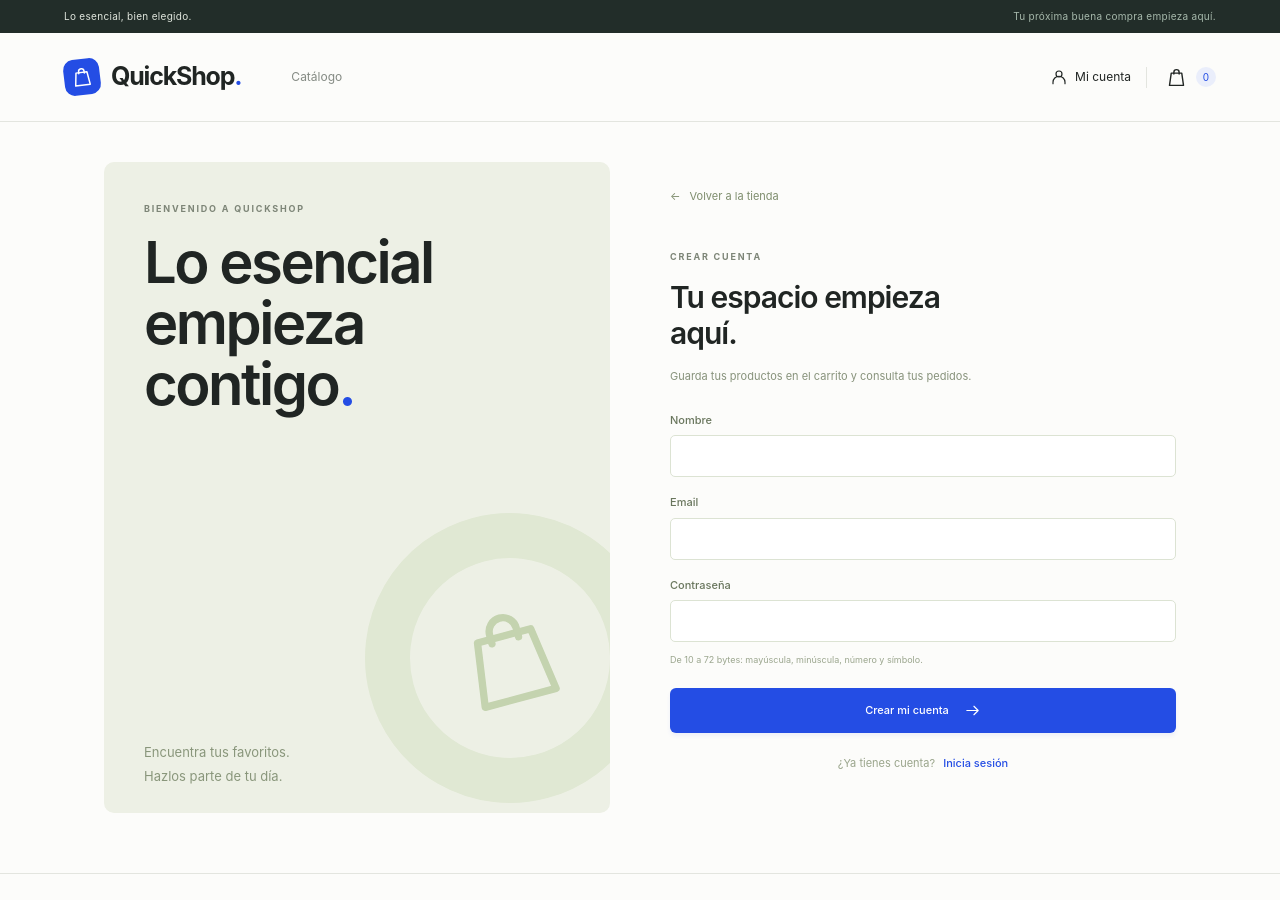
Test case: QuickShop › explica el campo rechazado al registrarse y conserva los datos
Type "Cliente Prueba" into the field labelled "Nombre" at coordinates (923, 456), box [670,435,1176,477]
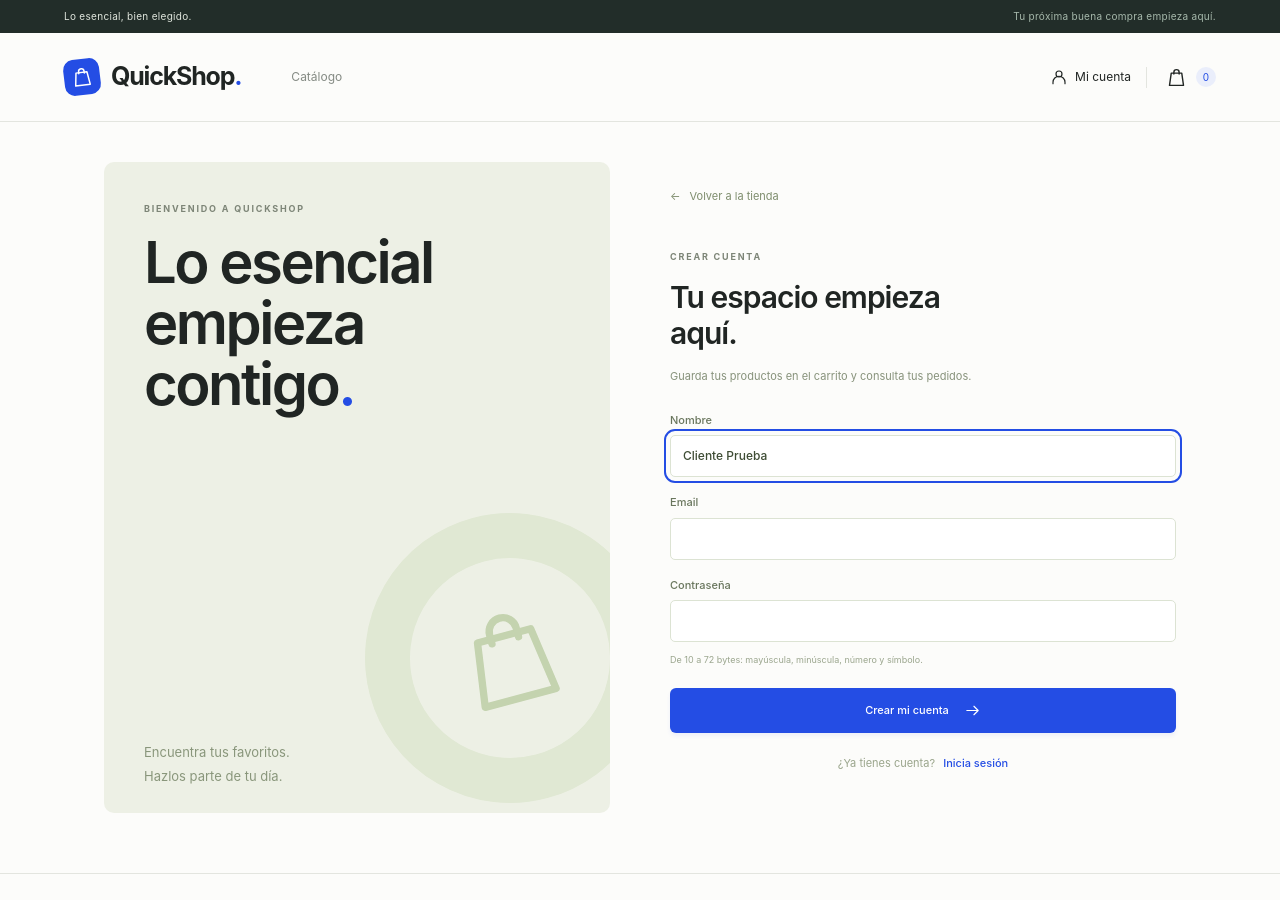
Type "test@example.com" into the field labelled "Email" at coordinates (923, 539), box [670,518,1176,560]
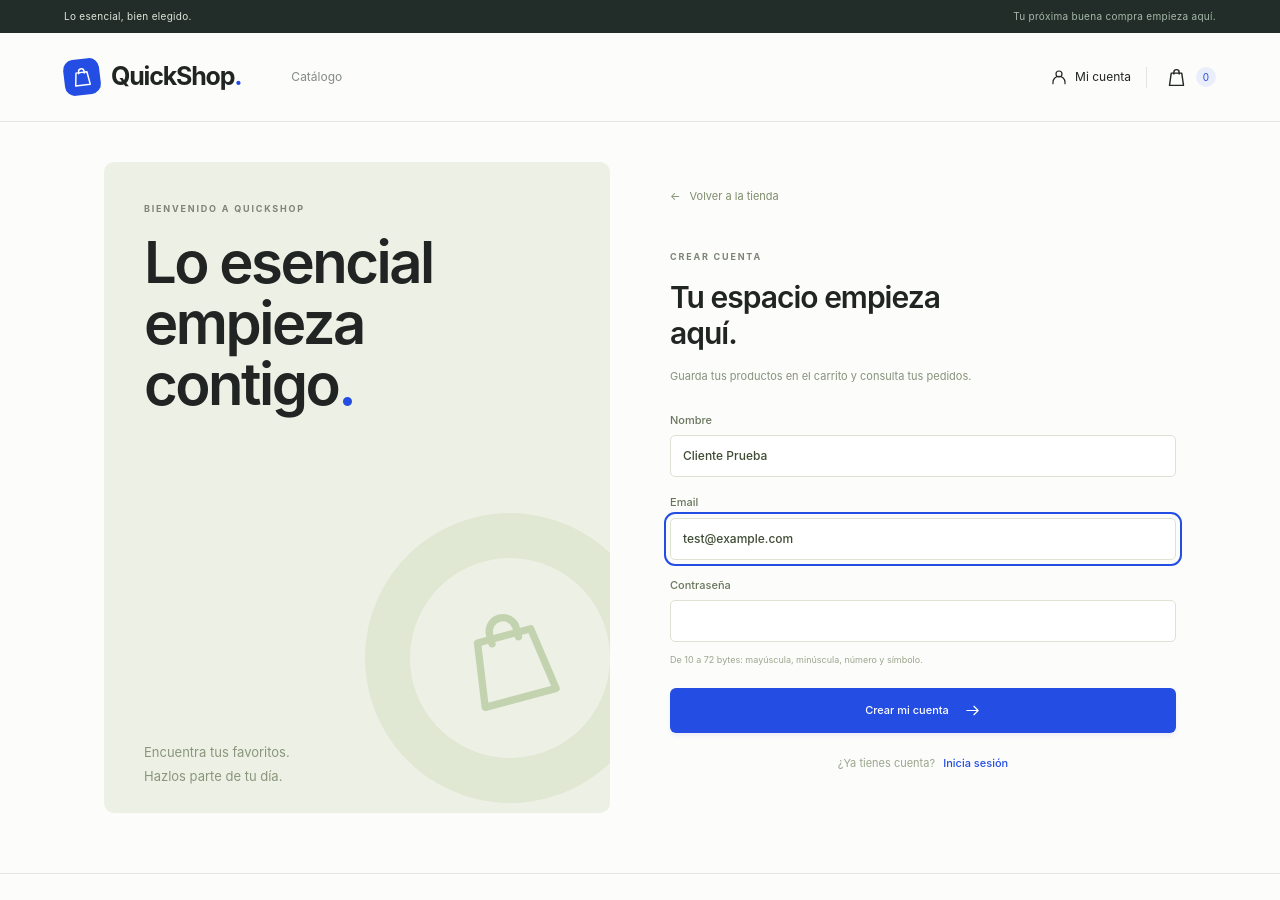
Type "claveprivada123" into the password field labelled "Contraseña" at coordinates (923, 621), box [670,600,1176,642]
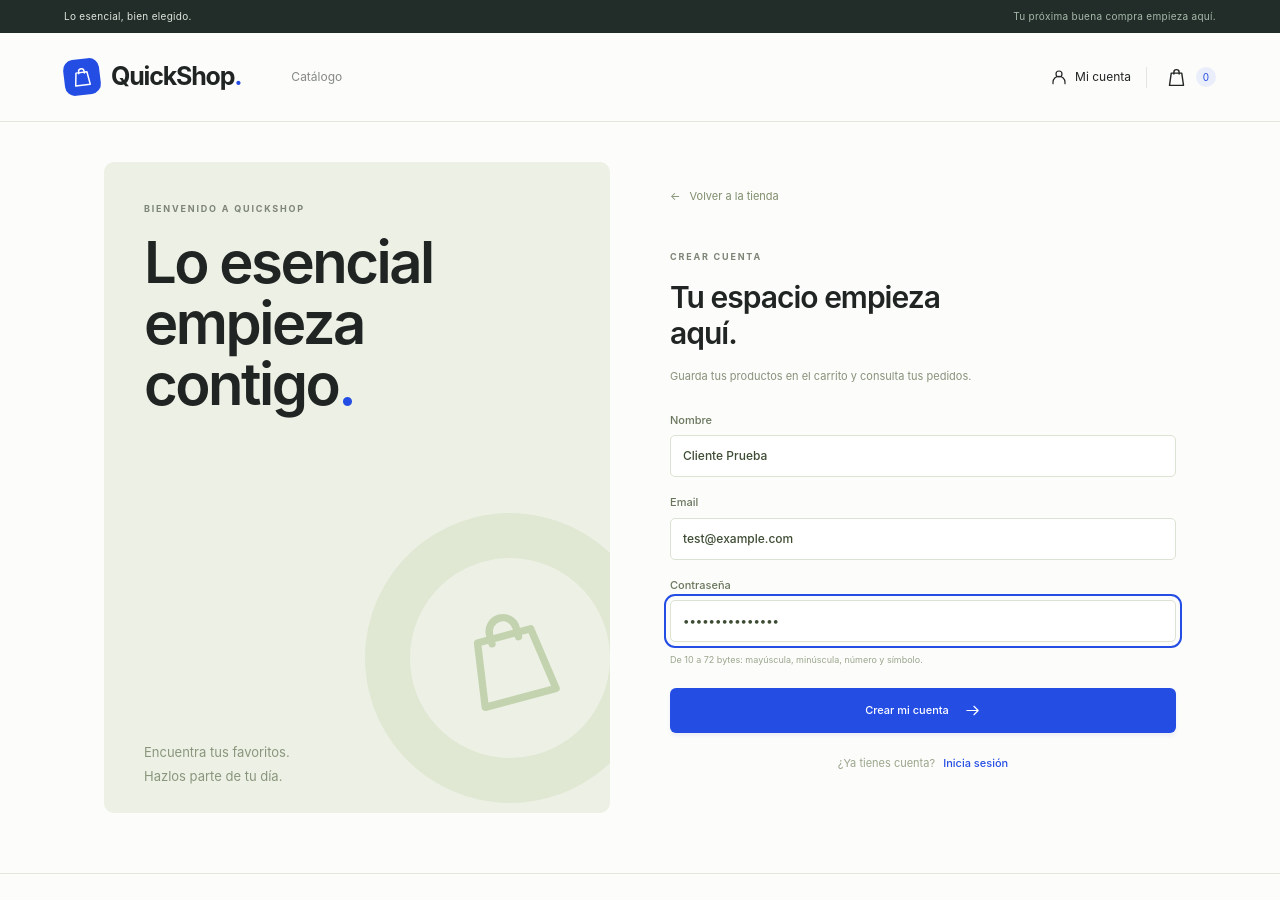
Click the button "Crear mi cuenta" at coordinates (923, 710), box [670,688,1176,733]
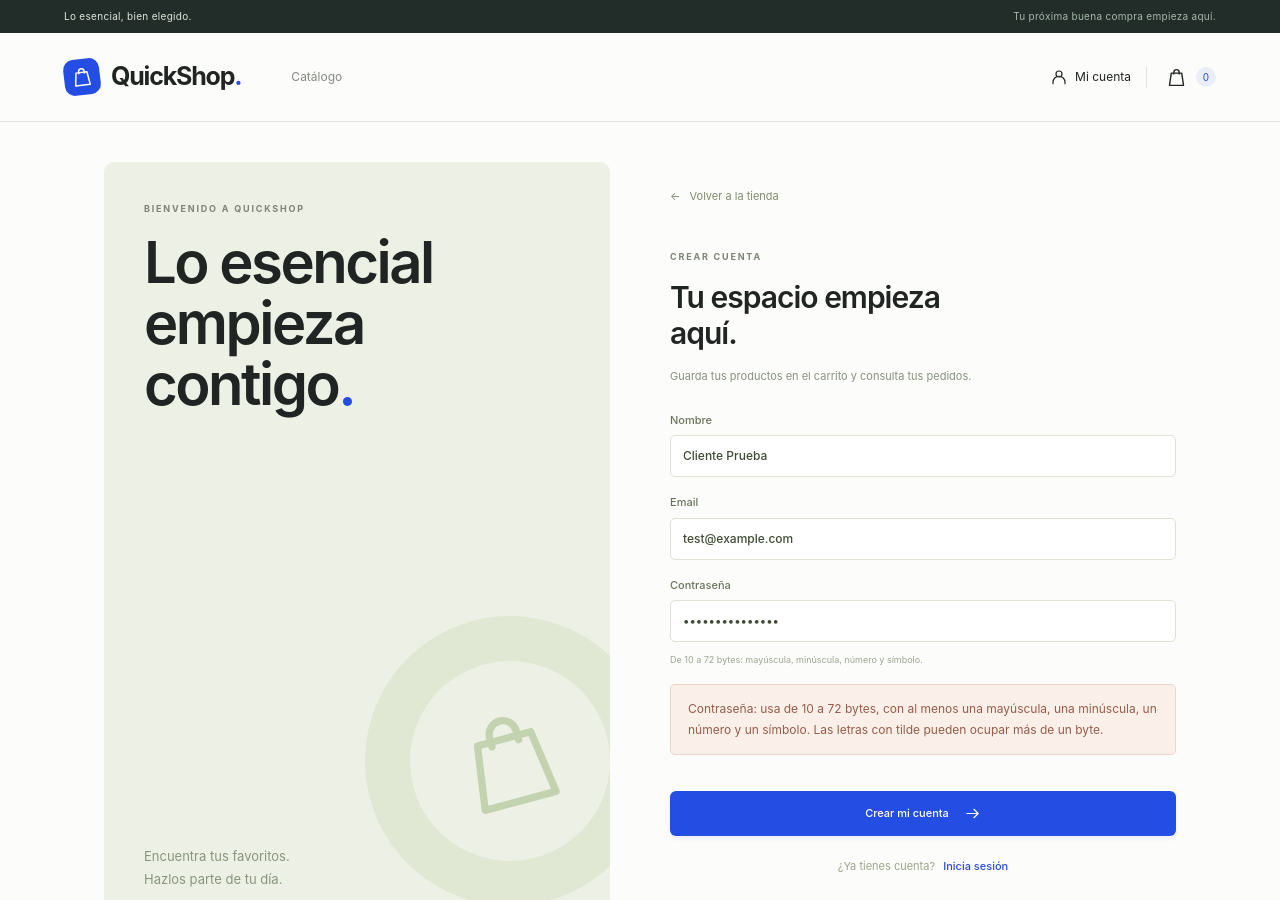
Expected: the message does not show "claveprivada123", [670,684,1176,755]
Expected: the message shows "Contraseña: usa de 10 a 72 bytes", [688,701,1157,737]
